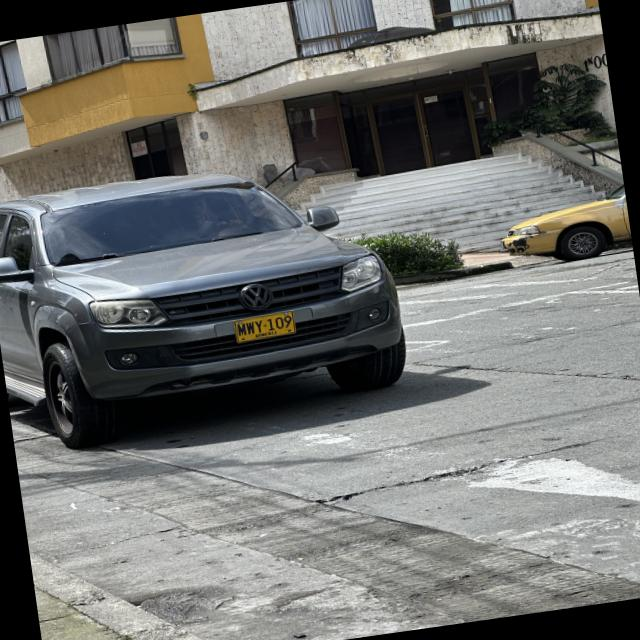number plate: (233, 311, 296, 343)
